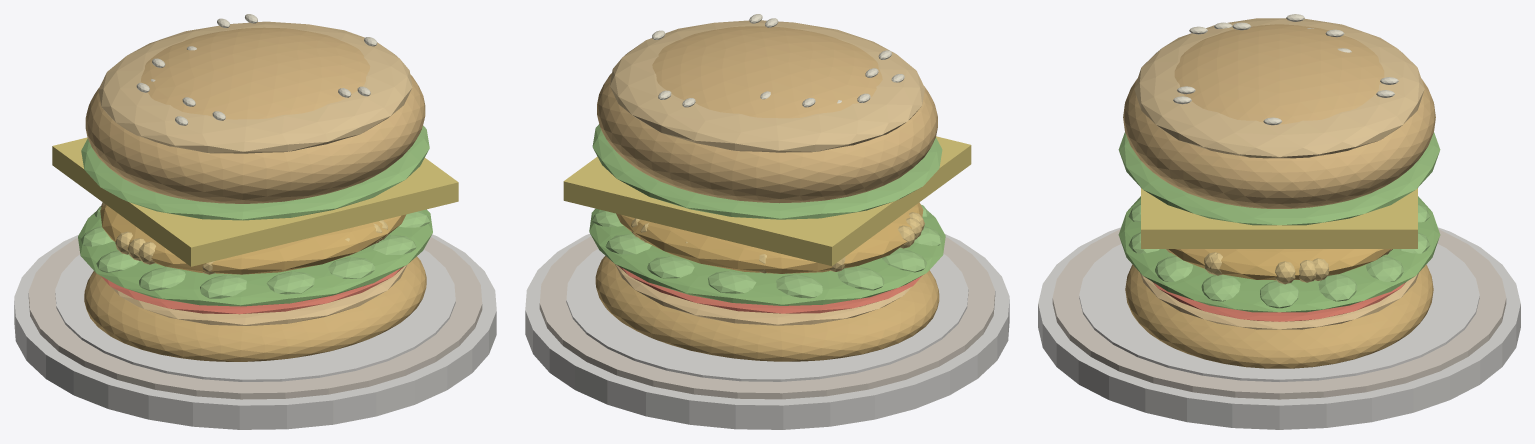
The model's file is burger_ga.glb.
3 renders of one model, left to right at view 1: azimuth 30°, elevation 25°; view 2: azimuth 150°, elevation 25°; view 3: azimuth 270°, elevation 25°, orthographic.
Parts seen in each view (by area): view 1: obj_0044, obj_0000, obj_0045, obj_0003, obj_0001, obj_0042, obj_0002, obj_0006, obj_0043, obj_0021, obj_0004, obj_0005 (+6 smaller); view 2: obj_0044, obj_0000, obj_0045, obj_0003, obj_0001, obj_0042, obj_0002, obj_0006, obj_0043, obj_0021, obj_0004, obj_0005 (+6 smaller); view 3: obj_0044, obj_0000, obj_0045, obj_0001, obj_0002, obj_0003, obj_0042, obj_0006, obj_0043, obj_0021, obj_0004, obj_0005 (+5 smaller).
Boxes of the visible parts, <box> form: obj_0044: <box>85,27,425,203</box>; obj_0000: <box>14,234,496,429</box>; obj_0045: <box>98,21,412,153</box>; obj_0003: <box>84,256,426,361</box>; obj_0001: <box>28,237,482,399</box>; obj_0042: <box>52,137,458,266</box>; obj_0002: <box>55,249,455,381</box>; obj_0006: <box>78,209,432,306</box>; obj_0043: <box>81,125,429,220</box>; obj_0021: <box>100,204,406,274</box>; obj_0004: <box>111,265,406,325</box>; obj_0005: <box>101,266,403,314</box>; obj_0044: <box>597,26,937,203</box>; obj_0000: <box>525,233,1009,429</box>; obj_0045: <box>610,20,924,152</box>; obj_0003: <box>595,256,939,361</box>; obj_0001: <box>539,236,995,399</box>; obj_0042: <box>563,136,971,265</box>; obj_0002: <box>566,249,968,381</box>; obj_0006: <box>589,208,945,305</box>; obj_0043: <box>592,124,942,219</box>; obj_0021: <box>616,202,923,273</box>; obj_0004: <box>615,264,911,325</box>; obj_0005: <box>618,266,922,313</box>; obj_0044: <box>1123,24,1435,208</box>; obj_0000: <box>1038,227,1520,429</box>; obj_0045: <box>1134,18,1424,158</box>; obj_0001: <box>1052,229,1506,399</box>; obj_0002: <box>1079,243,1479,381</box>; obj_0003: <box>1125,264,1433,368</box>; obj_0042: <box>1141,188,1417,248</box>; obj_0006: <box>1118,196,1440,312</box>; obj_0043: <box>1118,132,1440,225</box>; obj_0021: <box>1167,249,1392,280</box>; obj_0004: <box>1140,273,1418,329</box>; obj_0005: <box>1153,282,1405,321</box>.
Bounding box in the file's own units: 2.16 × 1.34 × 2.16.
